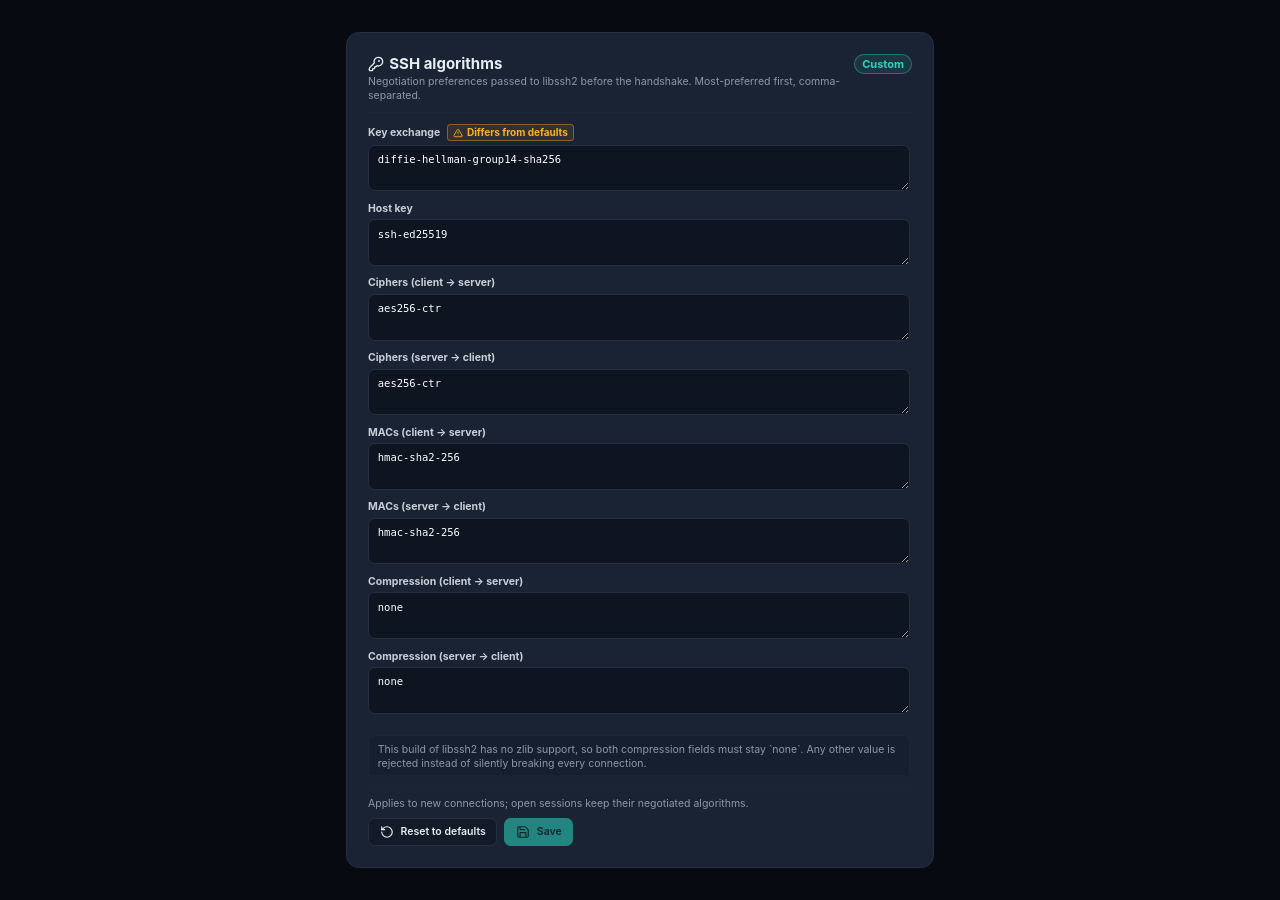
Test: AlgoPrefsDialog › reverts to the built-in defaults via clear
Check: the text "Custom" is shown, box [854,54,912,74]
What coordinates should you click on to do the following:
click the button "Reset to defaults"
I would click on:
 (433, 832)
Its box is [368,818,497,846].
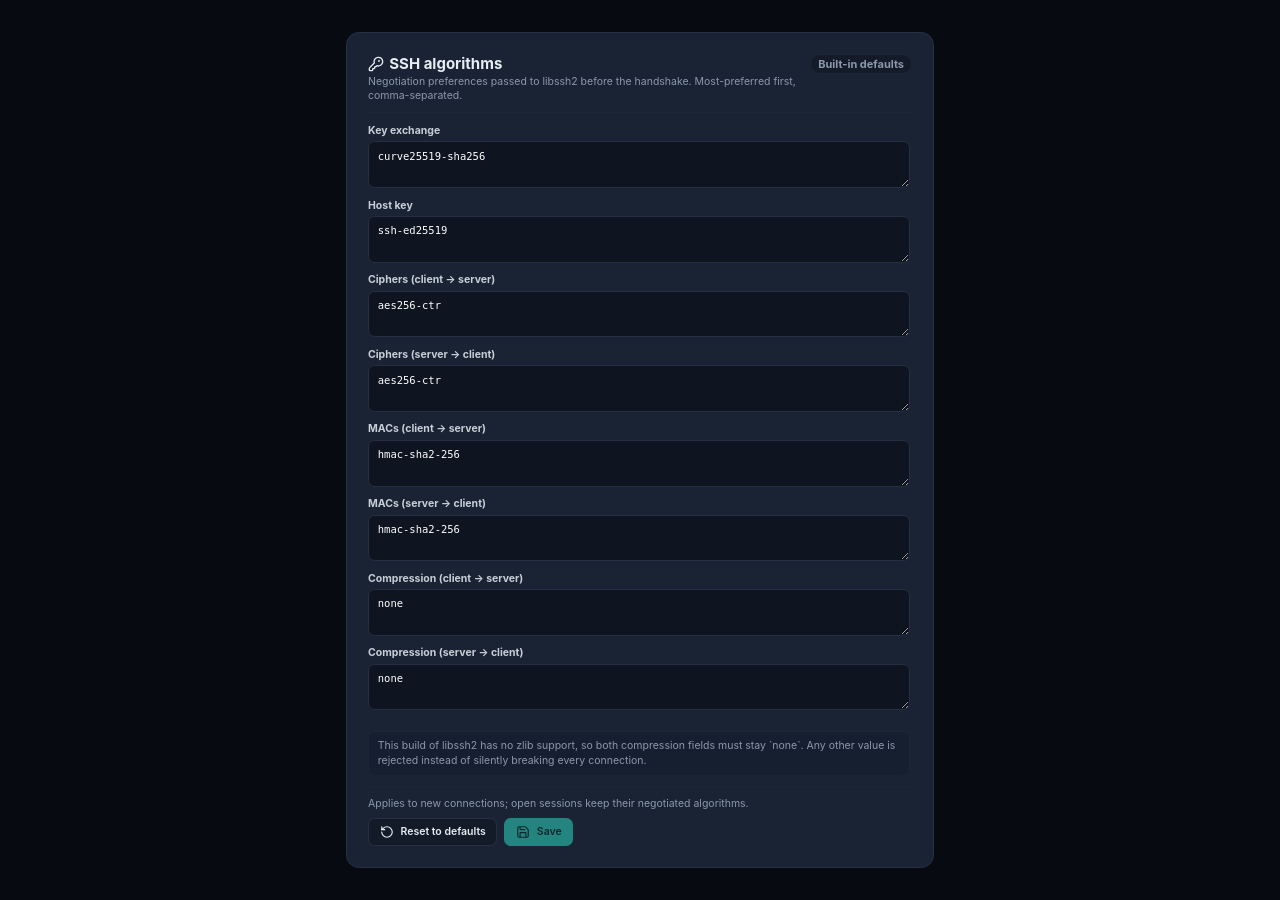
Check: the text "Built-in defaults" is shown, box [810,54,912,74]
